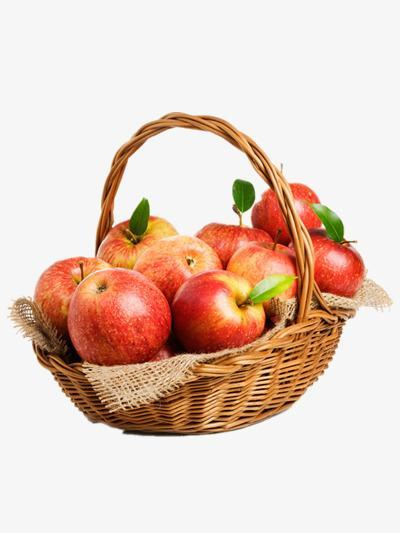apple: (65, 265, 171, 370), (174, 271, 274, 355), (137, 235, 221, 290), (309, 233, 364, 300)
